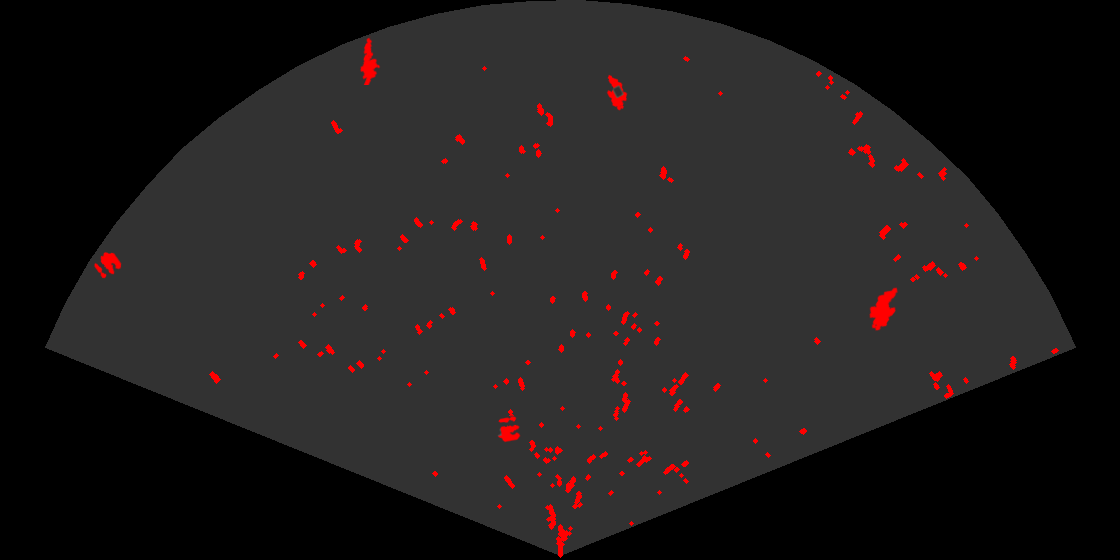AUV: (868, 286, 900, 332), (605, 73, 629, 112)
ball: (93, 250, 123, 280), (496, 415, 522, 444)
frogman: (359, 36, 382, 85)
